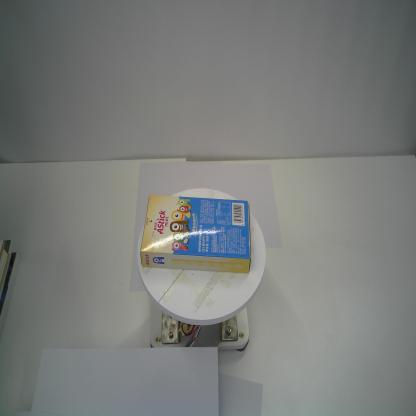Dessert: (138, 192, 254, 276)
